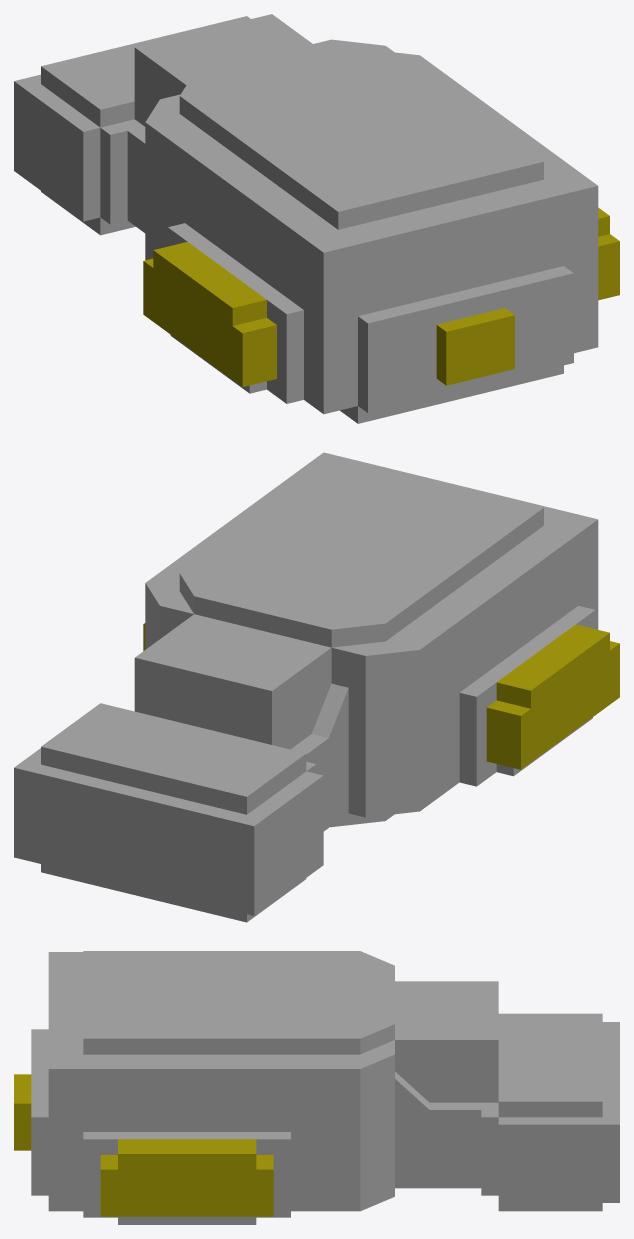
File: Hub_Shell_Test2.fbx
3 renders of one model, top to bottom at view 1: azimuth 30°, elevation 25°; view 2: azimuth 150°, elevation 25°; view 3: azimuth 270°, elevation 25°, orthographic. The views are drawn at different scales.
Parts seen in each view (by area): view 1: pasted__Hub_UpperBorder, pasted__Hub_Ceiling, pasted__IncineratorRoom_Wall, pasted__SortingArea_Block, pasted__TutorialEnd_Walls, pasted__TutorialEnd_UpperBorder, pasted__VentPadding_Right, pasted__TutorialEnd_Ceiling, pasted__SortingArea_Wall, pasted__IncineratorRoom_Block, pasted__TutorialEnd_StaircaseWall_Right, pasted__Hub_Floor (+4 smaller); view 2: pasted__Hub_Ceiling, pasted__TutorialEnd_Walls, pasted__VentPadding_Right, pasted__TutorialEnd_UpperBorder, pasted__Hub_UpperBorder, pasted__TutorialEnd_Ceiling, pasted__SortingArea_Block, pasted__SortingArea_Wall, pasted__TutorialEnd_StaircaseWall_Right, pasted__VentPadding_Left, pasted__TutorialEnd_Floor; view 3: pasted__Hub_Ceiling, pasted__Hub_UpperBorder, pasted__VentPadding_Left, pasted__ConstructionArea_Block, pasted__TutorialEnd_Walls, pasted__TutorialEnd_UpperBorder, pasted__TutorialEnd_Ceiling, pasted__TutorialEnd_StaircaseWall_Left, pasted__ConstructionArea_Wall, pasted__IncineratorRoom_Wall, pasted__IncineratorRoom_Block, pasted__ConstructionArea_Ramp (+1 smaller).
Part boxes in pixels (left/top/right/bottom): pasted__Hub_UpperBorder: left=185, top=84, right=598, bottom=414; pasted__Hub_Ceiling: left=179, top=39, right=543, bottom=229; pasted__IncineratorRoom_Wall: left=358, top=266, right=573, bottom=412; pasted__SortingArea_Block: left=143, top=242, right=276, bottom=387; pasted__TutorialEnd_Walls: left=14, top=74, right=100, bottom=221; pasted__TutorialEnd_UpperBorder: left=134, top=14, right=312, bottom=126; pasted__VentPadding_Right: left=145, top=94, right=218, bottom=260; pasted__TutorialEnd_Ceiling: left=41, top=16, right=250, bottom=127; pasted__SortingArea_Wall: left=168, top=223, right=303, bottom=403; pasted__IncineratorRoom_Block: left=436, top=308, right=514, bottom=385; pasted__TutorialEnd_StaircaseWall_Right: left=100, top=119, right=145, bottom=232; pasted__Hub_Floor: left=340, top=365, right=563, bottom=423; pasted__Hub_Ceiling: left=179, top=457, right=543, bottom=647; pasted__TutorialEnd_Walls: left=14, top=748, right=323, bottom=915; pasted__VentPadding_Right: left=331, top=612, right=459, bottom=817; pasted__TutorialEnd_UpperBorder: left=134, top=614, right=331, bottom=749; pasted__Hub_UpperBorder: left=185, top=452, right=598, bottom=692; pasted__TutorialEnd_Ceiling: left=41, top=703, right=306, bottom=814; pasted__SortingArea_Block: left=486, top=624, right=619, bottom=769; pasted__SortingArea_Wall: left=459, top=605, right=595, bottom=786; pasted__TutorialEnd_StaircaseWall_Right: left=290, top=683, right=348, bottom=831; pasted__VentPadding_Left: left=145, top=554, right=200, bottom=649; pasted__TutorialEnd_Floor: left=41, top=864, right=306, bottom=922; pasted__Hub_Ceiling: left=83, top=951, right=394, bottom=1054; pasted__Hub_UpperBorder: left=48, top=952, right=290, bottom=1210; pasted__VentPadding_Left: left=291, top=1040, right=394, bottom=1210; pasted__ConstructionArea_Block: left=100, top=1139, right=273, bottom=1216; pasted__TutorialEnd_Walls: left=498, top=1022, right=619, bottom=1202; pasted__TutorialEnd_UpperBorder: left=395, top=981, right=498, bottom=1102; pasted__TutorialEnd_Ceiling: left=498, top=1013, right=602, bottom=1117; pasted__TutorialEnd_StaircaseWall_Left: left=395, top=1071, right=498, bottom=1195; pasted__ConstructionArea_Wall: left=83, top=1132, right=290, bottom=1217; pasted__IncineratorRoom_Wall: left=31, top=1029, right=48, bottom=1195; pasted__IncineratorRoom_Block: left=14, top=1074, right=31, bottom=1150; pasted__ConstructionArea_Ramp: left=118, top=1216, right=256, bottom=1224.
Size of the model in its own units: 2200 by 1100 by 3500.
